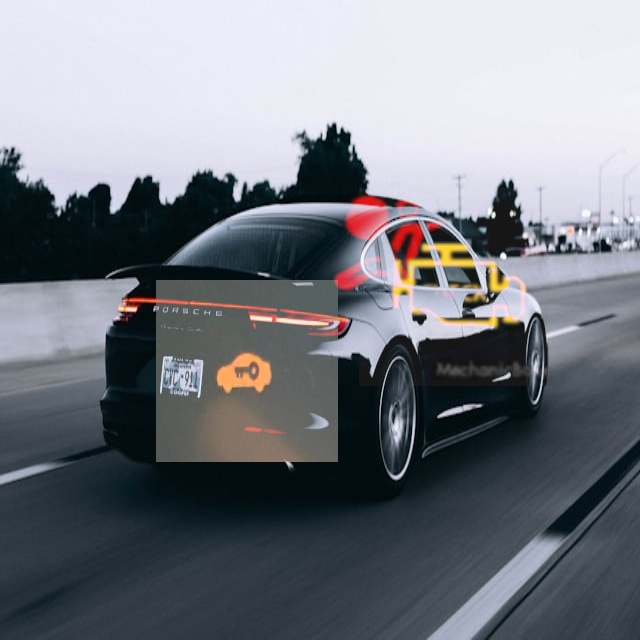symbol: (359, 188, 557, 386), (156, 280, 338, 462), (312, 164, 472, 324)
